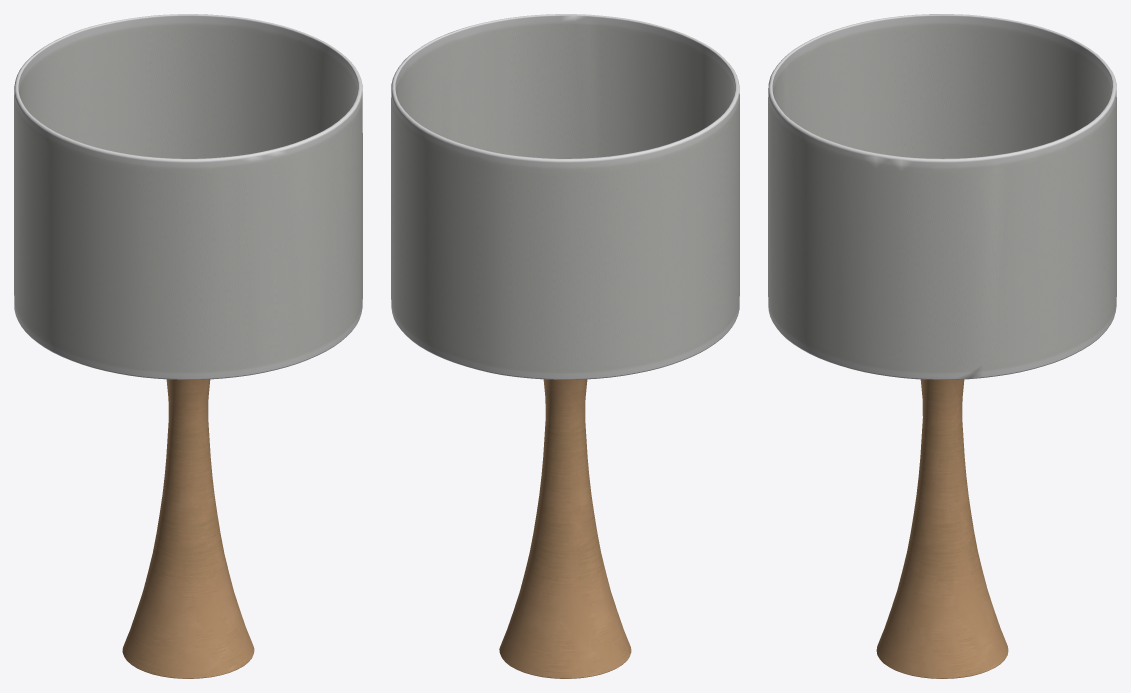
File: B073P2DNTD.glb
3 renders of one model, left to right at view 1: azimuth 30°, elevation 25°; view 2: azimuth 150°, elevation 25°; view 3: azimuth 270°, elevation 25°, orthographic.
Visible parts, largest first — view 1: RootNode; view 2: RootNode; view 3: RootNode.
Part boxes in pixels (box(x1,y1,x2,y2)): RootNode: box(14, 14, 362, 678); RootNode: box(391, 14, 739, 678); RootNode: box(768, 14, 1116, 678).
Bounding box in the file's own units: 0.268 × 0.4787 × 0.268.
Materials: 1 (1 with a texture image).
